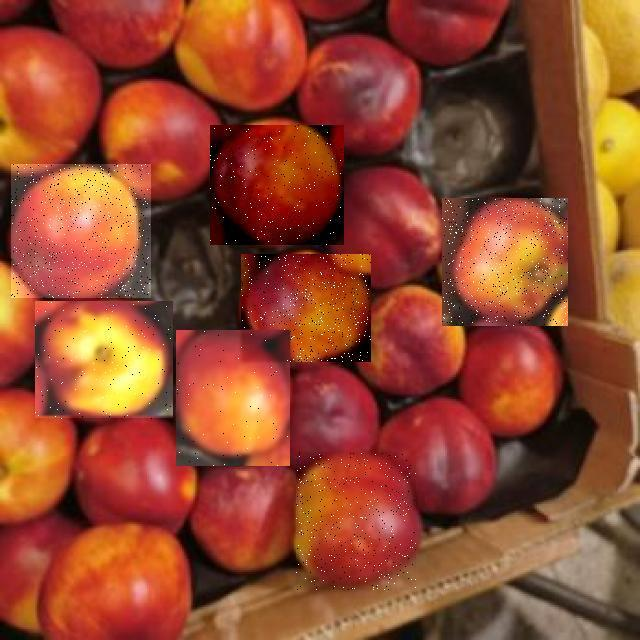Nectarine: (11, 164, 151, 298), (296, 453, 416, 591), (35, 302, 173, 420), (442, 198, 568, 326), (210, 125, 344, 245), (177, 330, 291, 466), (241, 254, 371, 362)
